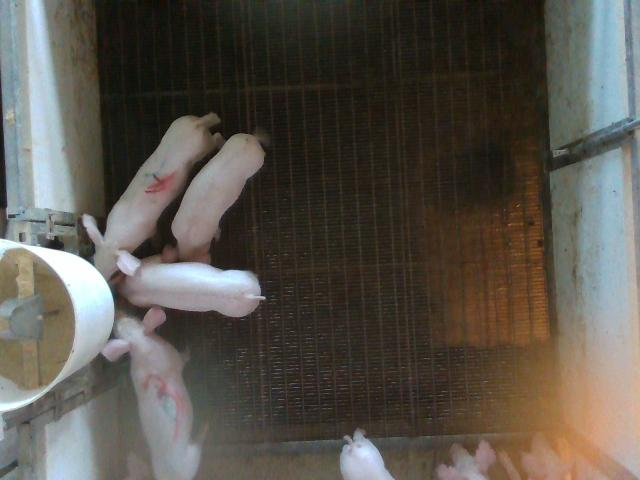pig-3: (102, 306, 201, 479)
pig-4: (85, 114, 222, 279)
